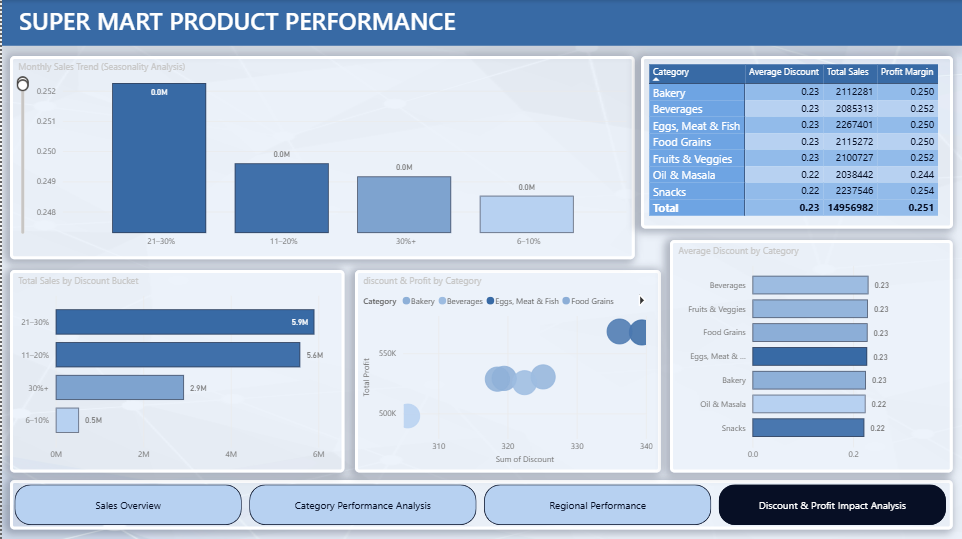

This screenshot's page, from the dashboard's own definition file:
{"tool":"powerbi","page":{"name":"Discount & Profit Impact Analysis","canvas":[1280,720],"ordinal":3},"visuals":[{"type":"textbox","box":[0,0,1280,60.6],"z":0},{"type":"pageNavigator","box":[10,640,1257,66],"z":1000},{"type":"scatterChart","title":"discount & Profit by Category","fields":{"X":["Sum(Supermart.Discount)"],"Y":["Supermart.Total Profit"],"Series":["Supermart.Category"],"Size":["Supermart.Total Sales"]},"box":[470,360,408,270],"z":2000},{"type":"barChart","fields":{"Y":["Supermart.Average Discount"],"Category":["Supermart.Category"]},"box":[890,320,377,310],"z":4000},{"type":"columnChart","title":"Monthly Sales Trend (Seasonality Analysis)","fields":{"Y":["Supermart.Profit Margin"],"Category":["Supermart.Discount Bucket"]},"box":[10,74.4,833.3,271.1],"z":5000},{"type":"barChart","fields":{"Y":["Supermart.Total Sales"],"Category":["Supermart.Discount Bucket"]},"box":[10,360,446,270],"z":6000},{"type":"pivotTable","fields":{"Rows":["Supermart.Category"],"Values":["Supermart.Average Discount","Supermart.Total Sales","Supermart.Profit Margin"]},"box":[851.4,74.3,415.7,230],"z":7000}]}

Visuals, with their boxes in screenshot pixels (x1, y1, x2, y2), scaled from the page's 1280x720 canvas onto the 962x539 screenshot:
textbox: [0,0,961,45]
pageNavigator: [8,479,952,529]
"discount & Profit by Category" scatterChart: [353,270,660,472]
barChart - Supermart.Average Discount x Supermart.Category: [669,240,952,472]
"Monthly Sales Trend (Seasonality Analysis)" columnChart: [8,56,634,259]
barChart - Supermart.Total Sales x Supermart.Discount Bucket: [8,270,343,472]
pivotTable - Supermart.Category x Supermart.Average Discount: [640,56,952,228]
